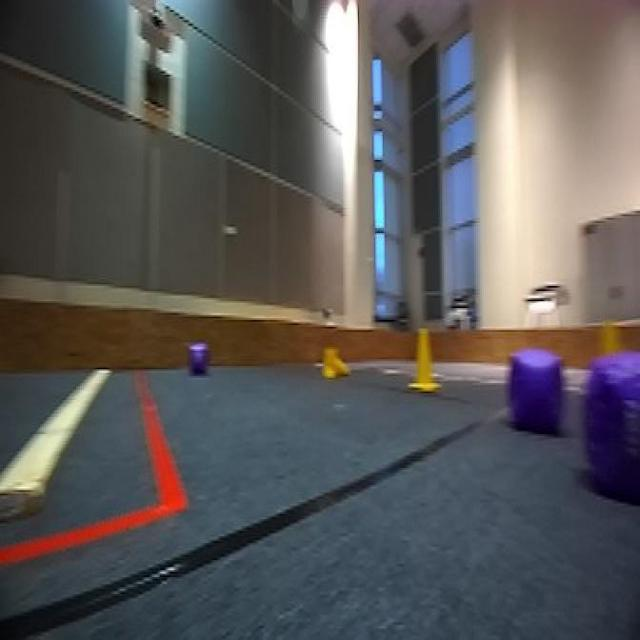frc_cone: (407, 325, 439, 397), (321, 346, 350, 380)
frc_cube: (578, 348, 640, 512), (504, 338, 571, 436), (186, 342, 210, 380)
